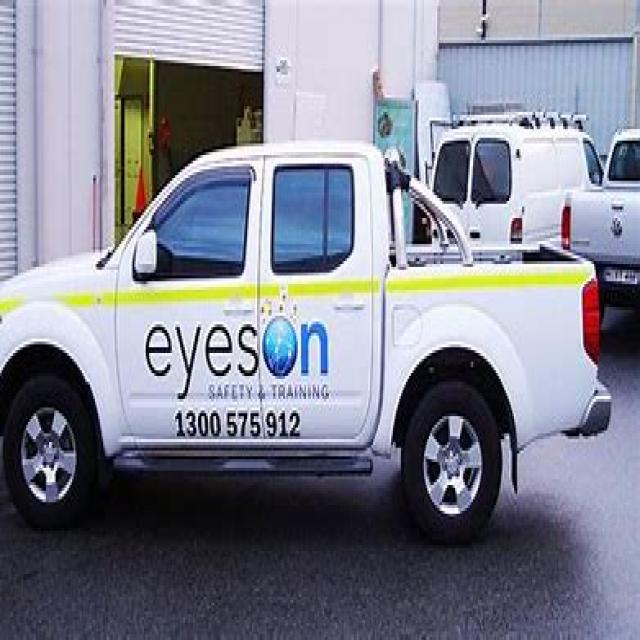light_vehicle: (23, 129, 614, 557)
